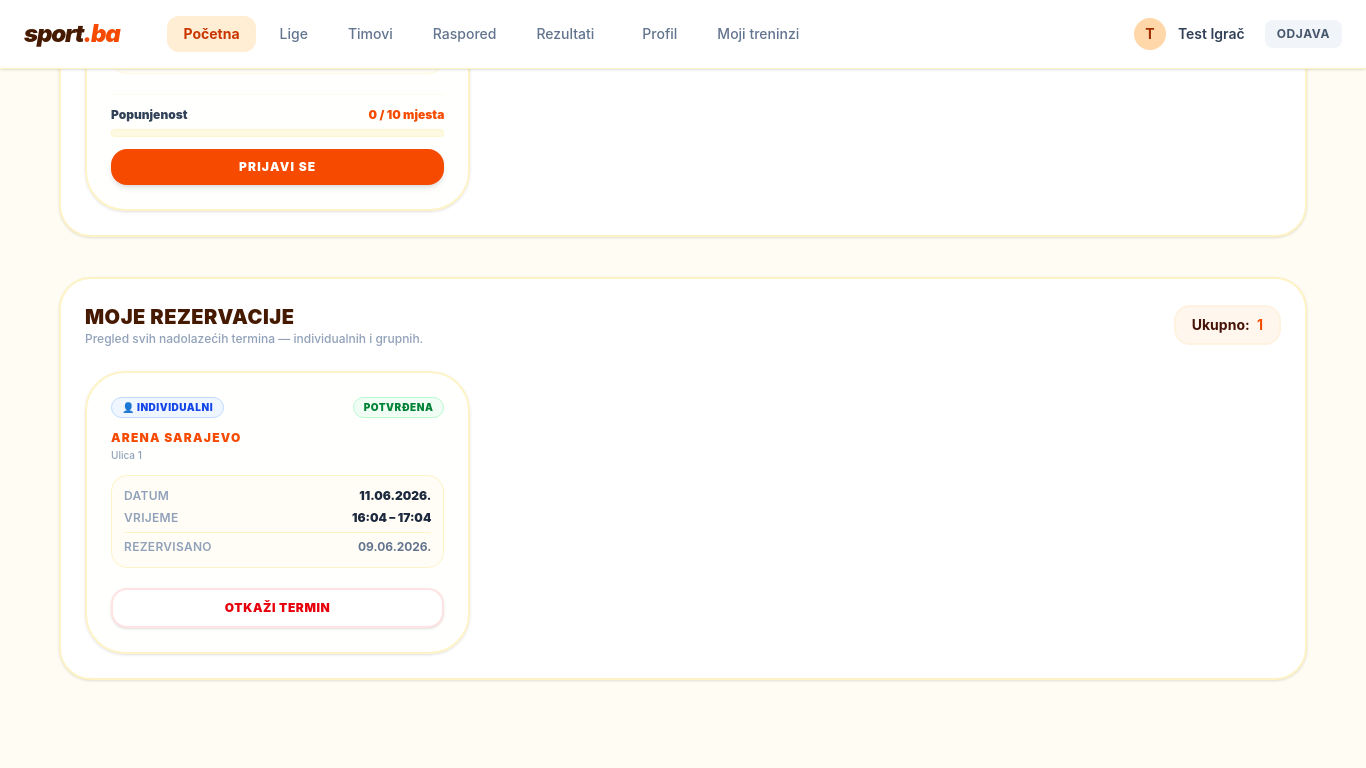
Test: PlayerDashboard — moje rezervacije › otvara modal za otkazivanje na klik Otkaži termin
This screenshot has width=1366, height=768.
(page scrolled)
Click the button "Otkaži termin": (278, 608) x1=111 y1=588 x2=444 y2=628
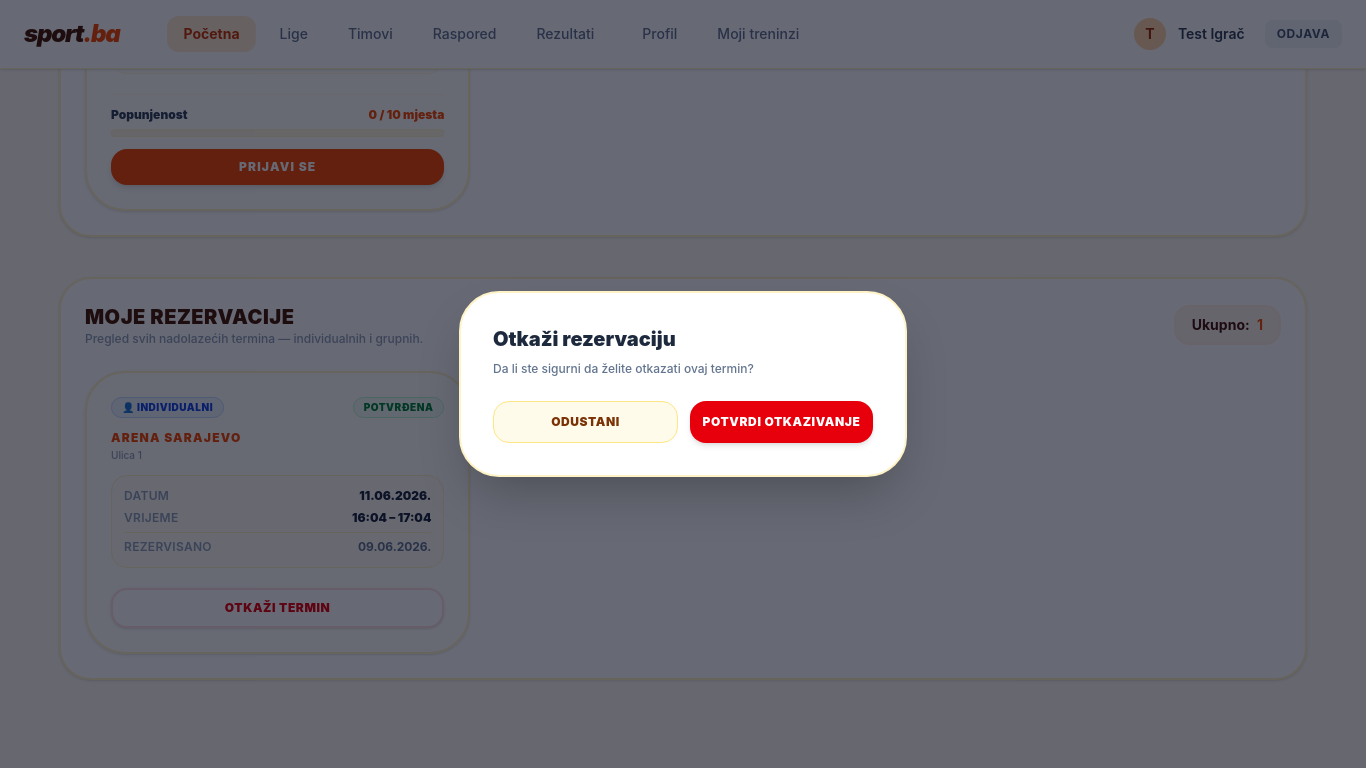
Result: the heading "Otkaži rezervaciju" is shown at x1=493 y1=327 x2=676 y2=351
Result: the button "Potvrdi otkazivanje" is shown at x1=690 y1=401 x2=873 y2=443
